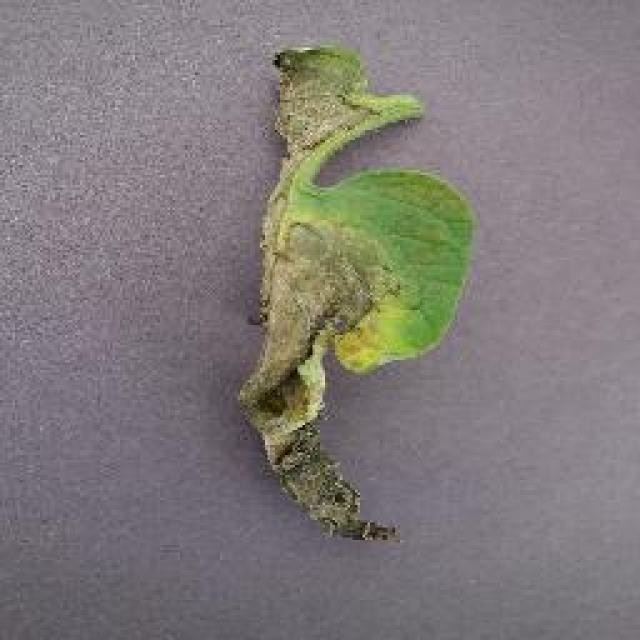Tomato Late Blight: (160, 22, 417, 638)
